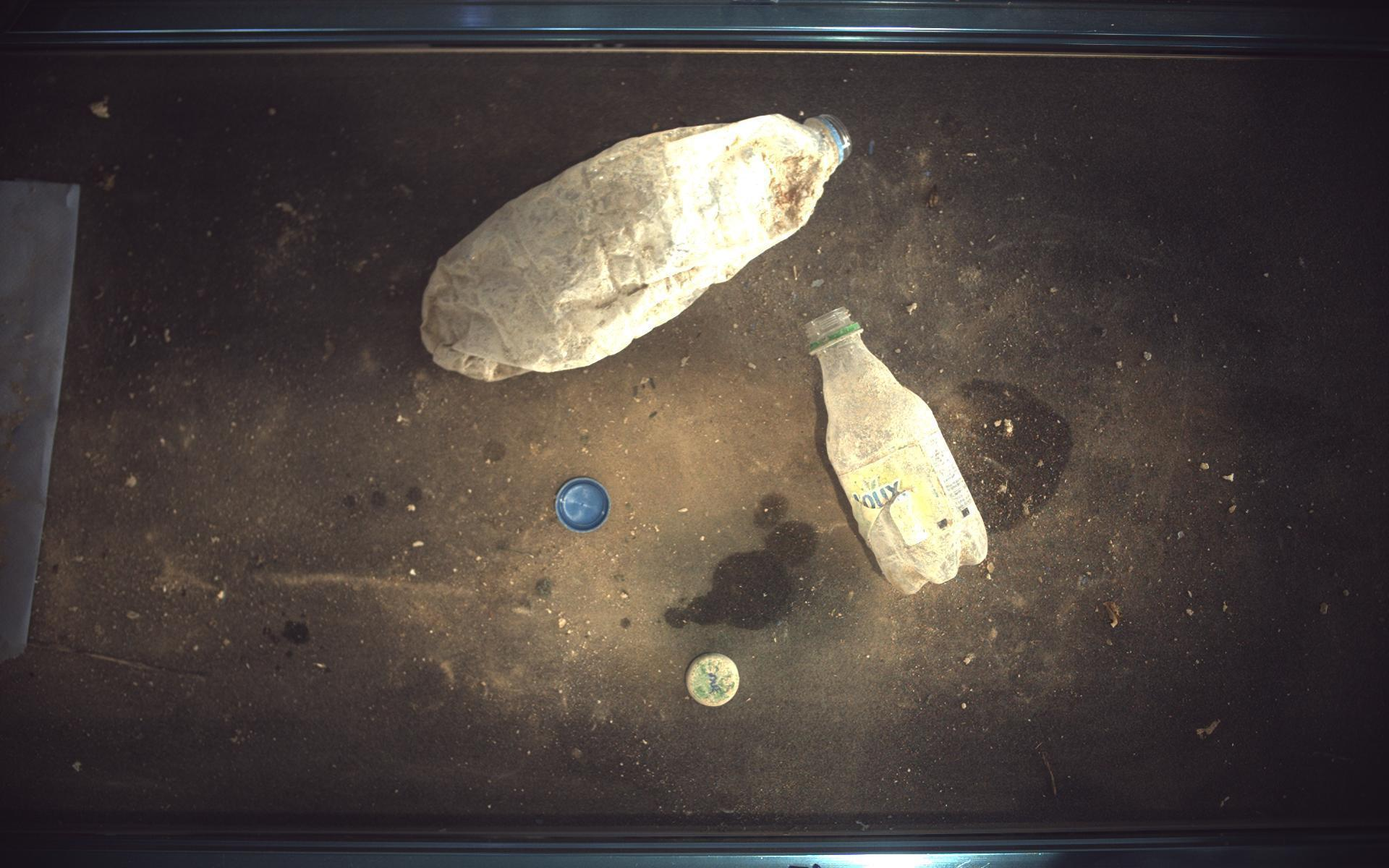general_w: (806, 307, 990, 595), (556, 478, 611, 532), (687, 654, 741, 708)
